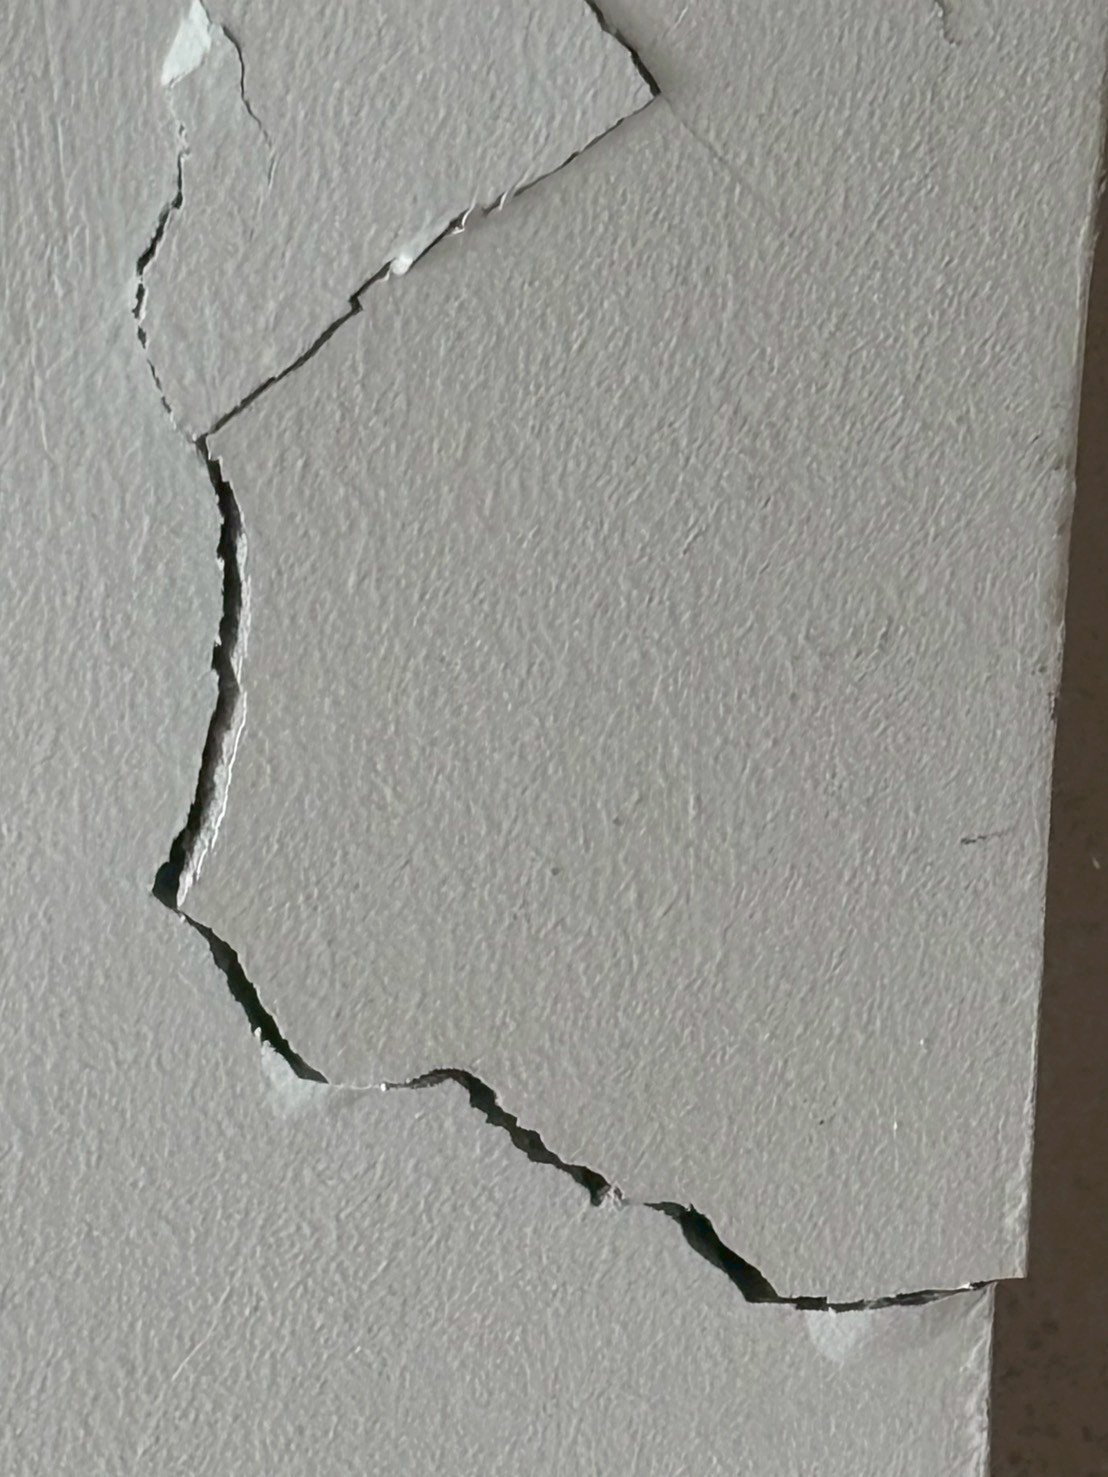High: (81, 3, 1056, 1382)
